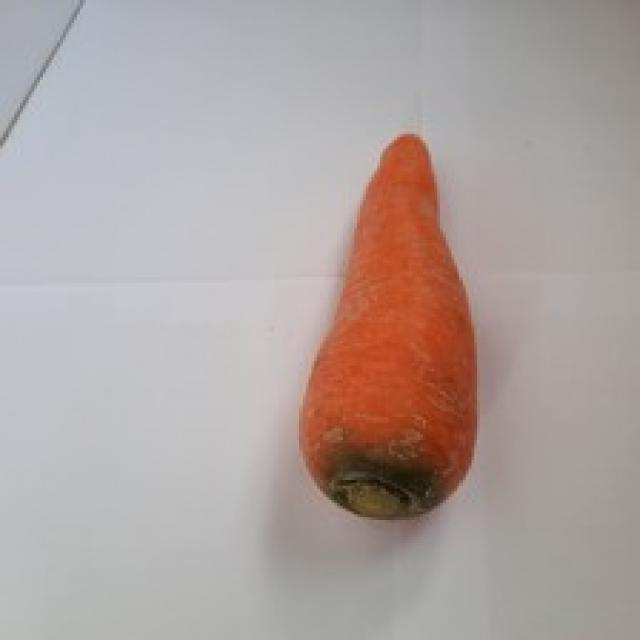carrot: (296, 129, 479, 524)
